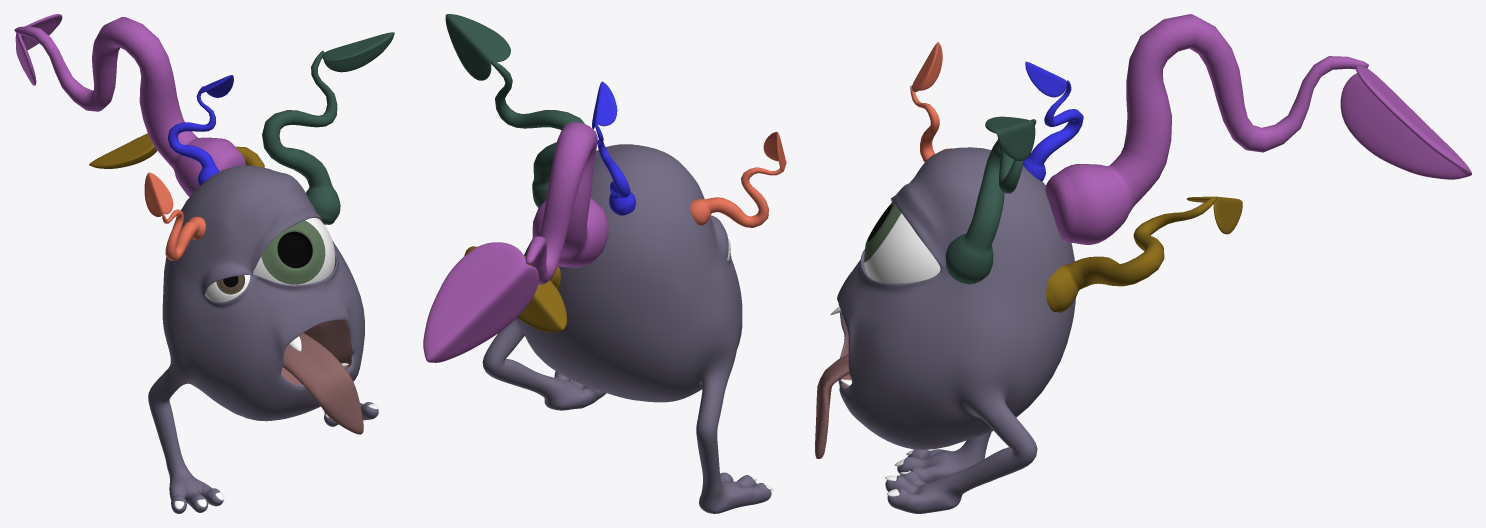
The model's file is Bean_Monster_Instancing_V3.glb.
The picture shows the model from 3 angles, left to right: view 1: azimuth 30°, elevation 25°; view 2: azimuth 150°, elevation 25°; view 3: azimuth 270°, elevation 25°; orthographic projection. The views are drawn at different scales.
Parts seen in each view (by area): view 1: Instance Child on Parent; view 2: Instance Child on Parent; view 3: Instance Child on Parent.
Boxes of the visible parts, bbox=[...] form: Instance Child on Parent: bbox=[14, 14, 394, 513]; Instance Child on Parent: bbox=[423, 14, 786, 513]; Instance Child on Parent: bbox=[815, 14, 1471, 513].
Size of the model in its own units: 47.18 by 65.71 by 80.95.
